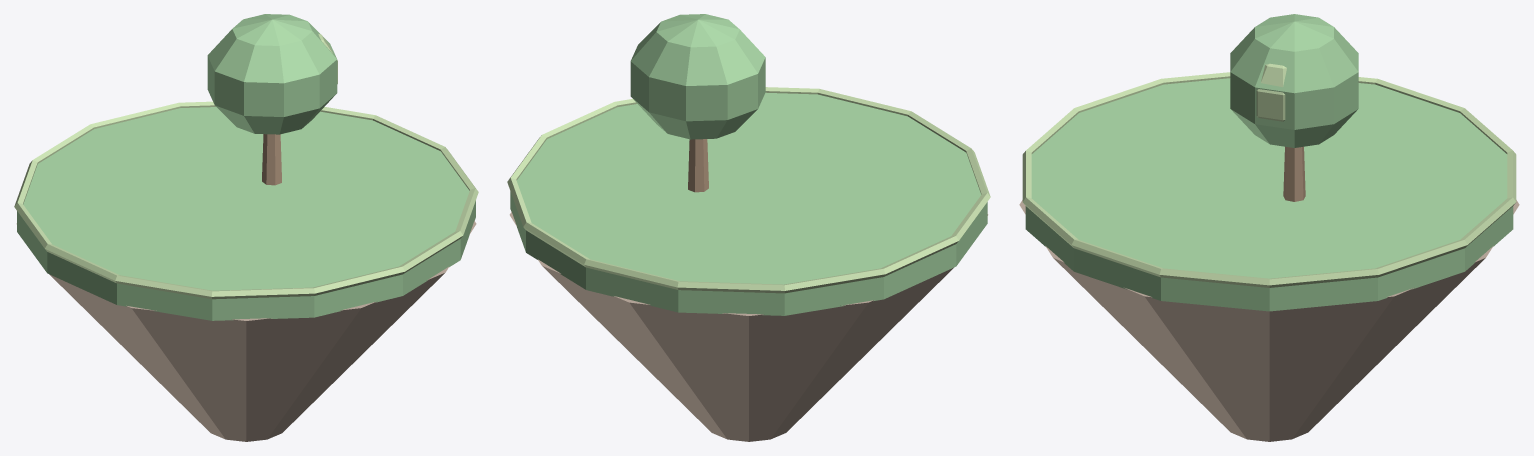
Rendered from isla_flotante.glb.
3 renders of one model, left to right at view 1: azimuth 30°, elevation 25°; view 2: azimuth 150°, elevation 25°; view 3: azimuth 270°, elevation 25°, orthographic. The views are drawn at different scales.
Parts seen in each view (by area): view 1: isla_flotante; view 2: isla_flotante; view 3: isla_flotante.
Boxes of the visible parts, <box> form: isla_flotante: <box>14,14,478,441</box>; isla_flotante: <box>507,14,990,441</box>; isla_flotante: <box>1019,14,1519,441</box>.
Bounding box in the file's own units: 4.86 × 4.46 × 4.8.
